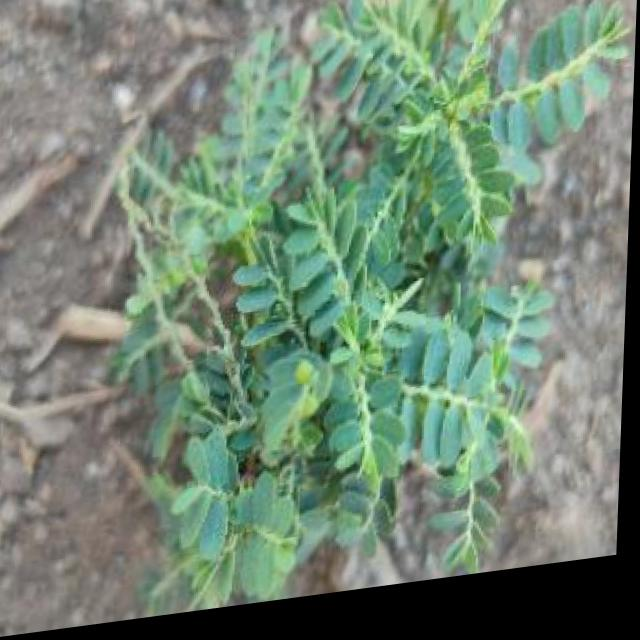weed: (49, 0, 626, 633)
